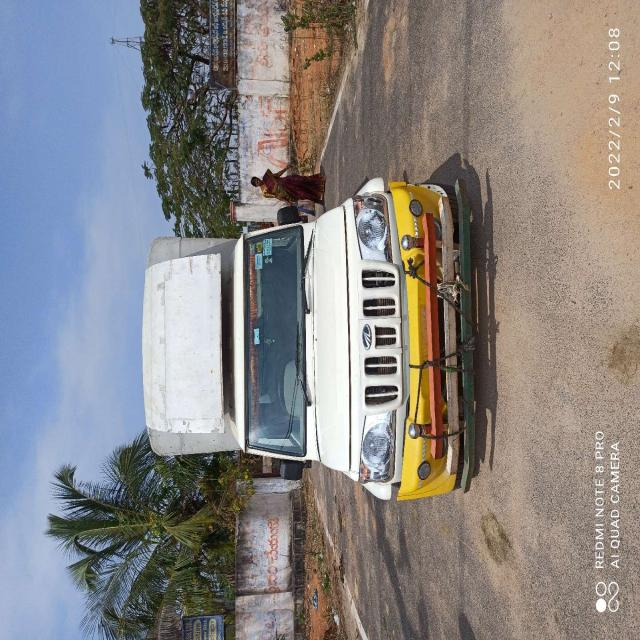light_vehicle: (154, 217, 467, 484)
